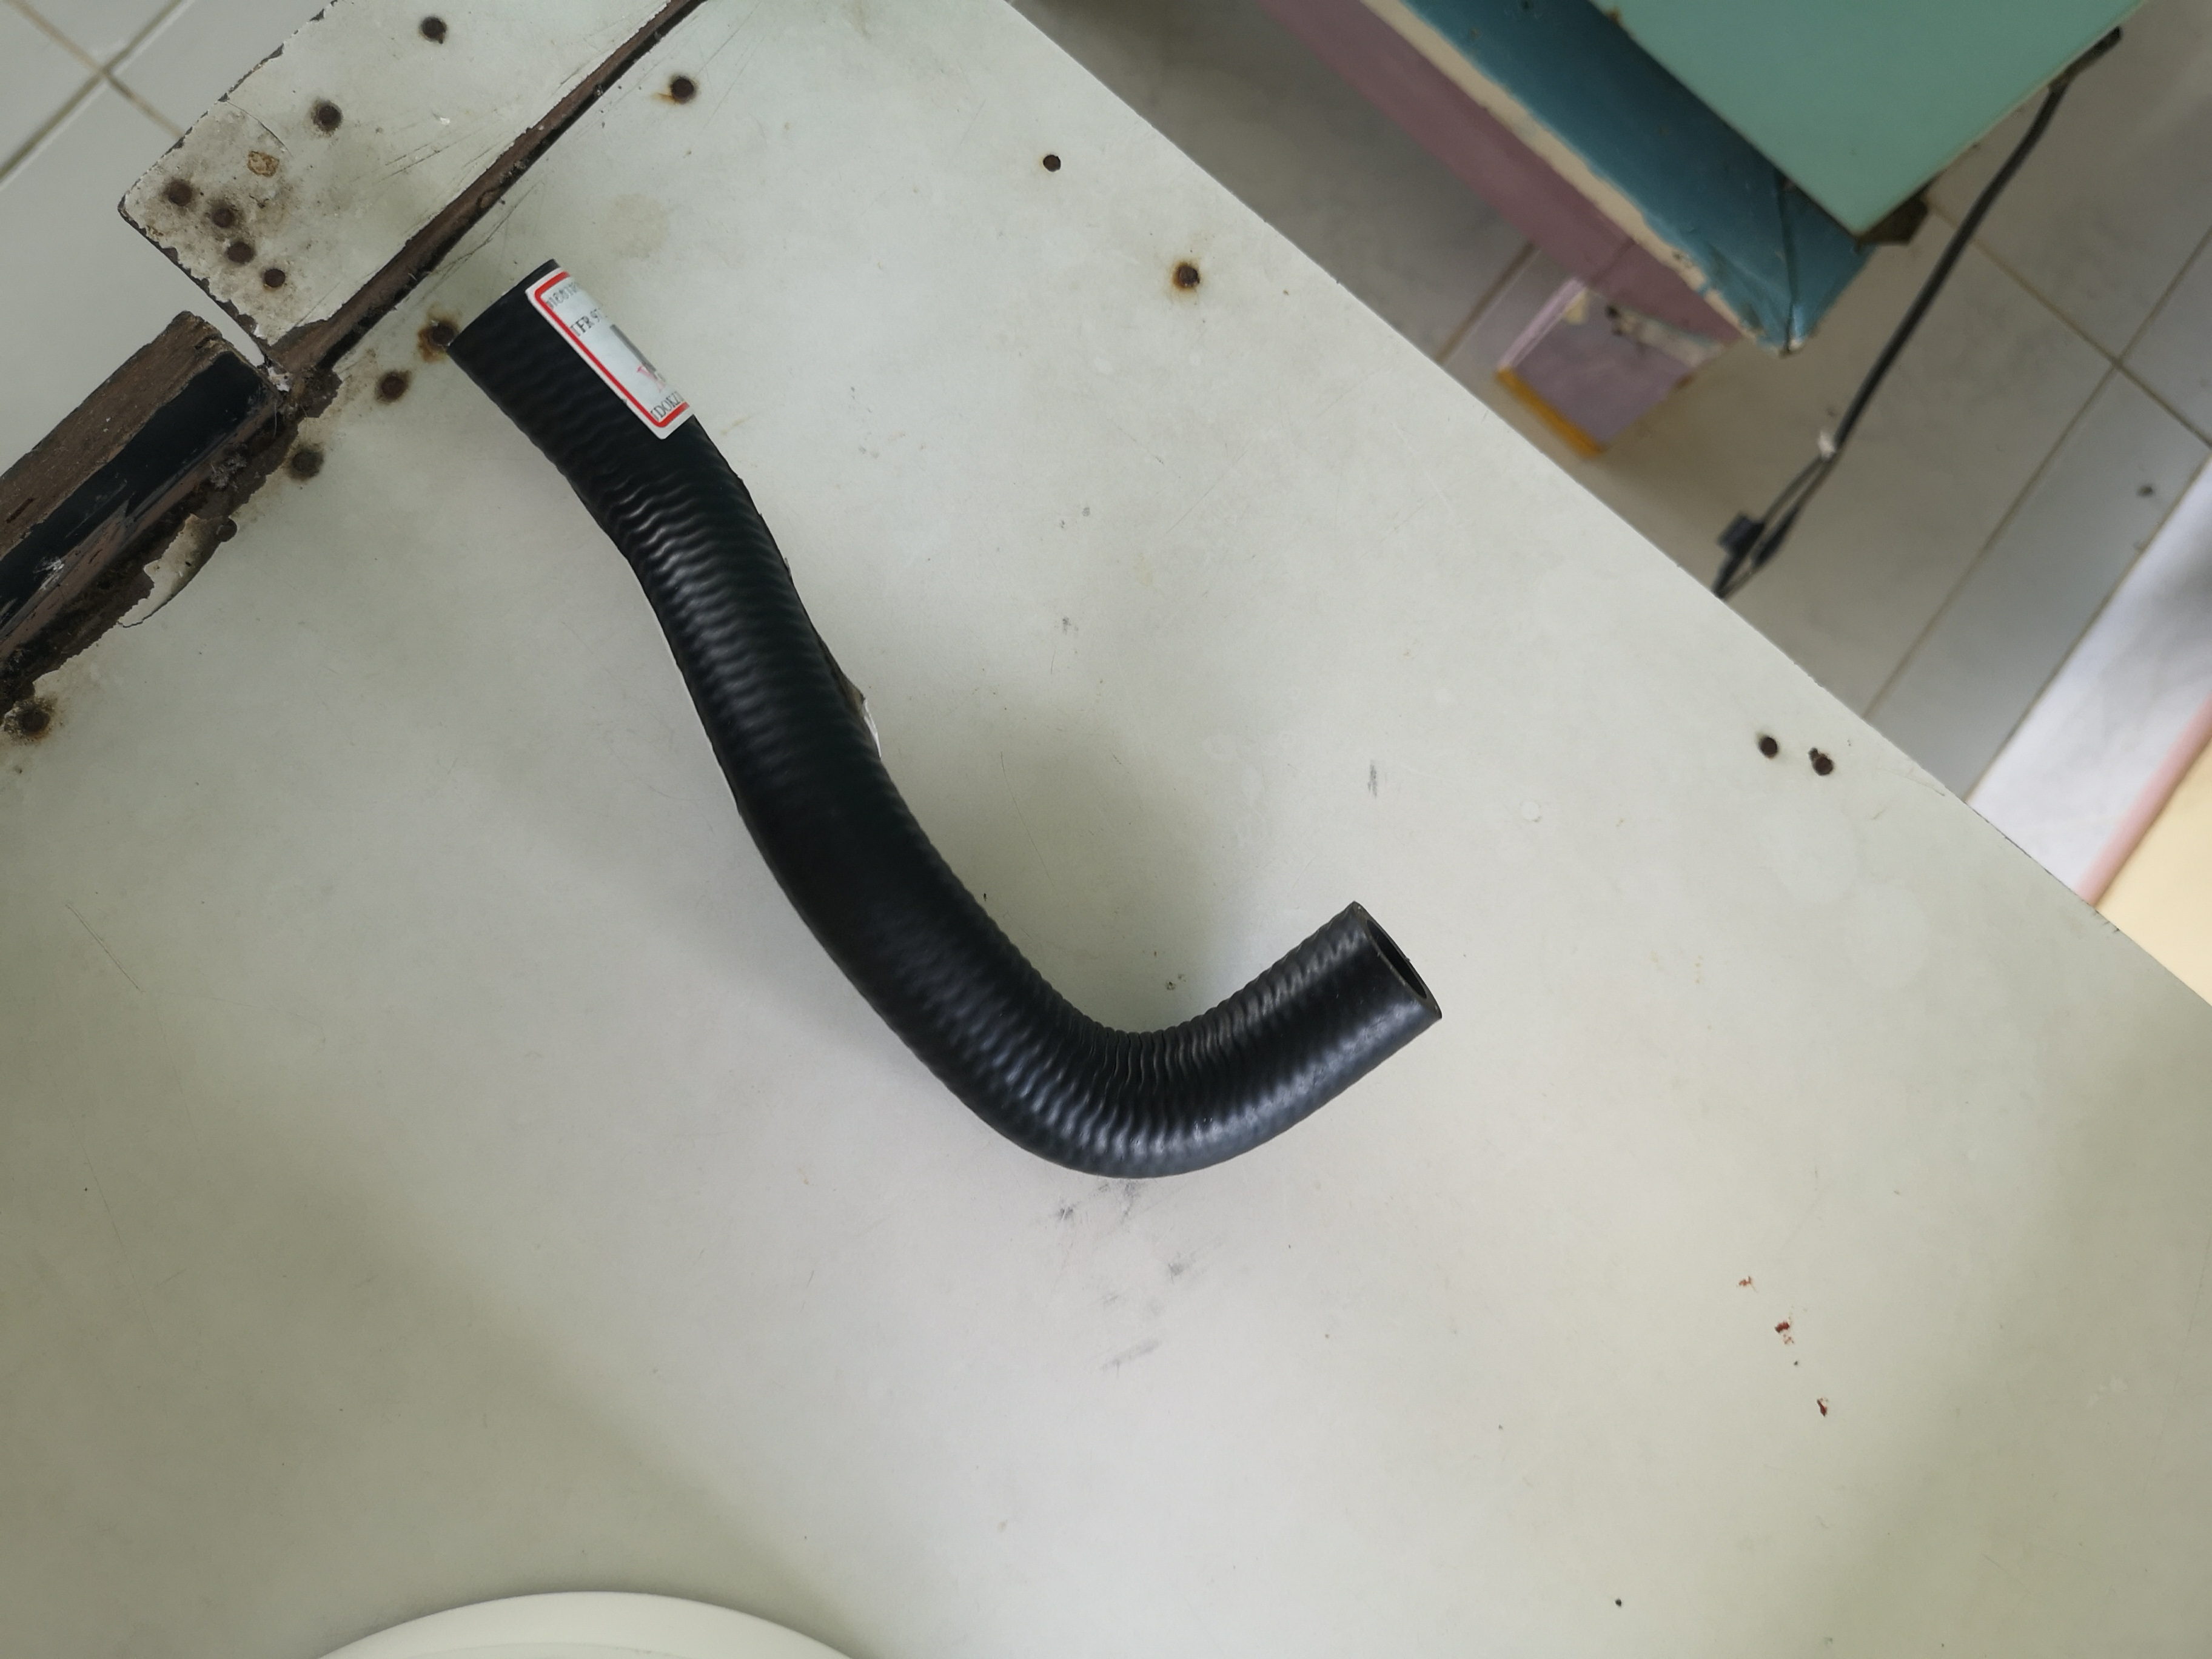ท่อยางน้ำมันเลี้ยงเทอร์โบ: (413, 228, 1454, 1253)
